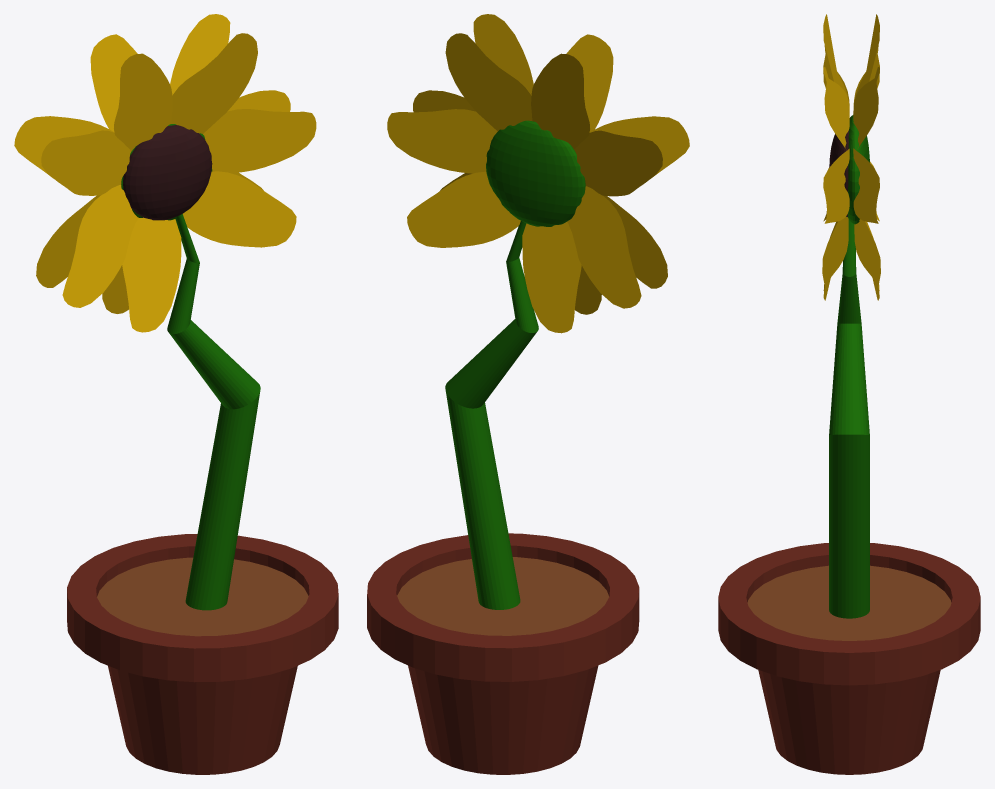
File: FlorMaceta.fbx
3 views of the same model, side by side, from view 1: azimuth 30°, elevation 25°; view 2: azimuth 150°, elevation 25°; view 3: azimuth 270°, elevation 25° (orthographic). The views are drawn at different scales.
Visible parts, largest first — view 1: Circle, Cylinder, Circle.001, Circle.008, Circle.004, Circle.002, Circle.003, Circle.005, Sphere, Circle.007, Circle.006; view 2: Circle, Cylinder, Circle.001, Sphere.001, Circle.008, Circle.004, Circle.002, Circle.003, Circle.005, Circle.007, Circle.006; view 3: Circle, Cylinder, Circle.001, Circle.005, Circle.004, Circle.006, Sphere.001, Circle.003, Circle.002, Sphere.
Boxes of the visible parts, left/top/right/bottom form: Circle: left=67, top=534, right=338, bottom=774; Cylinder: left=167, top=214, right=260, bottom=610; Circle.001: left=97, top=557, right=308, bottom=636; Circle.008: left=36, top=185, right=138, bottom=307; Circle.004: left=170, top=14, right=257, bottom=133; Circle.002: left=14, top=116, right=130, bottom=195; Circle.003: left=90, top=34, right=172, bottom=151; Circle.005: left=203, top=90, right=316, bottom=173; Sphere: left=123, top=125, right=212, bottom=220; Circle.007: left=102, top=217, right=181, bottom=332; Circle.006: left=183, top=171, right=296, bottom=247; Circle: left=367, top=533, right=639, bottom=774; Cylinder: left=445, top=221, right=538, bottom=609; Circle.001: left=397, top=557, right=608, bottom=635; Sphere.001: left=486, top=120, right=585, bottom=226; Circle.008: left=567, top=186, right=667, bottom=308; Circle.004: left=445, top=14, right=533, bottom=131; Circle.002: left=574, top=116, right=689, bottom=196; Circle.003: left=531, top=34, right=613, bottom=149; Circle.005: left=387, top=90, right=497, bottom=173; Circle.007: left=522, top=222, right=601, bottom=333; Circle.006: left=407, top=171, right=520, bottom=247; Circle: left=718, top=543, right=980, bottom=774; Cylinder: left=829, top=219, right=869, bottom=618; Circle.001: left=747, top=565, right=951, bottom=640; Circle.005: left=823, top=148, right=879, bottom=223; Circle.004: left=823, top=67, right=879, bottom=158; Circle.006: left=822, top=216, right=880, bottom=300; Sphere.001: left=847, top=115, right=869, bottom=224; Circle.003: left=823, top=14, right=879, bottom=116; Circle.002: left=823, top=45, right=879, bottom=111; Sphere: left=829, top=130, right=848, bottom=216.
Size of the model in its own units: 554 by 1301 by 448.
